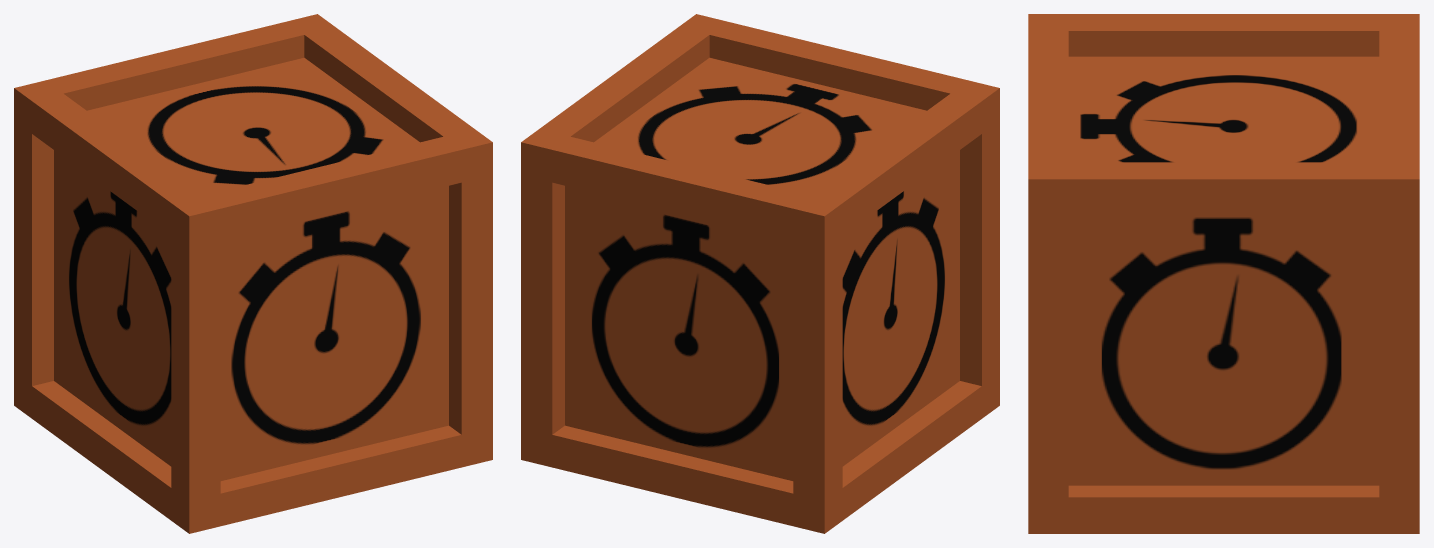
The model's file is powerupBox.fbx.
3 renders of one model, left to right at view 1: azimuth 30°, elevation 25°; view 2: azimuth 150°, elevation 25°; view 3: azimuth 270°, elevation 25°, orthographic. The views are drawn at different scales.
Visible parts, largest first — view 1: Cube; view 2: Cube; view 3: Cube.
Part boxes in pixels (x1,y1,x2,y2): Cube: (14,14,492,533); Cube: (521,14,999,533); Cube: (1028,14,1419,533).
Size of the model in its own units: 200 by 200 by 200.
1 material, 1 textured.
